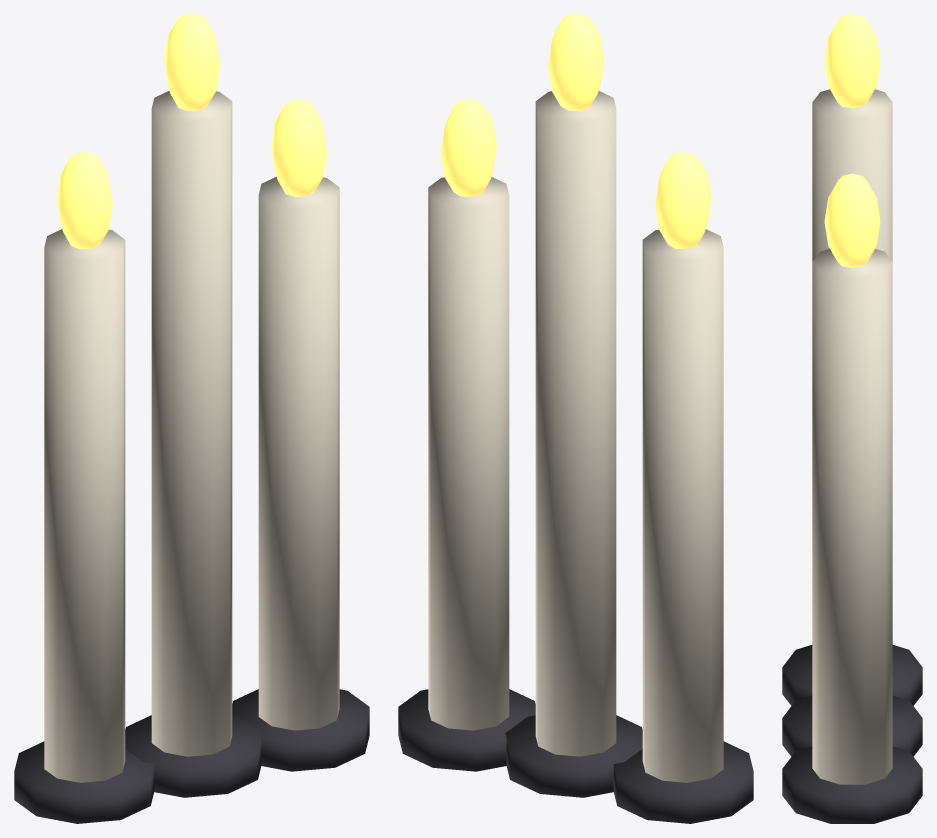
The model's file is candle_group_tall_trio.glb.
The picture shows the model from 3 angles, left to right: view 1: azimuth 30°, elevation 25°; view 2: azimuth 150°, elevation 25°; view 3: azimuth 270°, elevation 25°; orthographic projection. The views are drawn at different scales.
Parts seen in each view (by area): view 1: GD_candle_group_tall_trio__m1, GD_candle_group_tall_trio__m0, GD_candle_group_tall_trio__m2; view 2: GD_candle_group_tall_trio__m1, GD_candle_group_tall_trio__m0, GD_candle_group_tall_trio__m2; view 3: GD_candle_group_tall_trio__m1, GD_candle_group_tall_trio__m0, GD_candle_group_tall_trio__m2.
Part boxes in pixels (left/top/right/bottom): GD_candle_group_tall_trio__m1: left=44, top=91, right=339, bottom=782; GD_candle_group_tall_trio__m0: left=14, top=689, right=369, bottom=823; GD_candle_group_tall_trio__m2: left=57, top=14, right=326, bottom=249; GD_candle_group_tall_trio__m1: left=428, top=91, right=723, bottom=782; GD_candle_group_tall_trio__m0: left=398, top=689, right=753, bottom=823; GD_candle_group_tall_trio__m2: left=441, top=14, right=710, bottom=249; GD_candle_group_tall_trio__m1: left=812, top=89, right=892, bottom=784; GD_candle_group_tall_trio__m0: left=782, top=645, right=922, bottom=823; GD_candle_group_tall_trio__m2: left=824, top=14, right=880, bottom=267.
Size of the model in its own units: 0.1866 by 0.4031 by 0.07.
